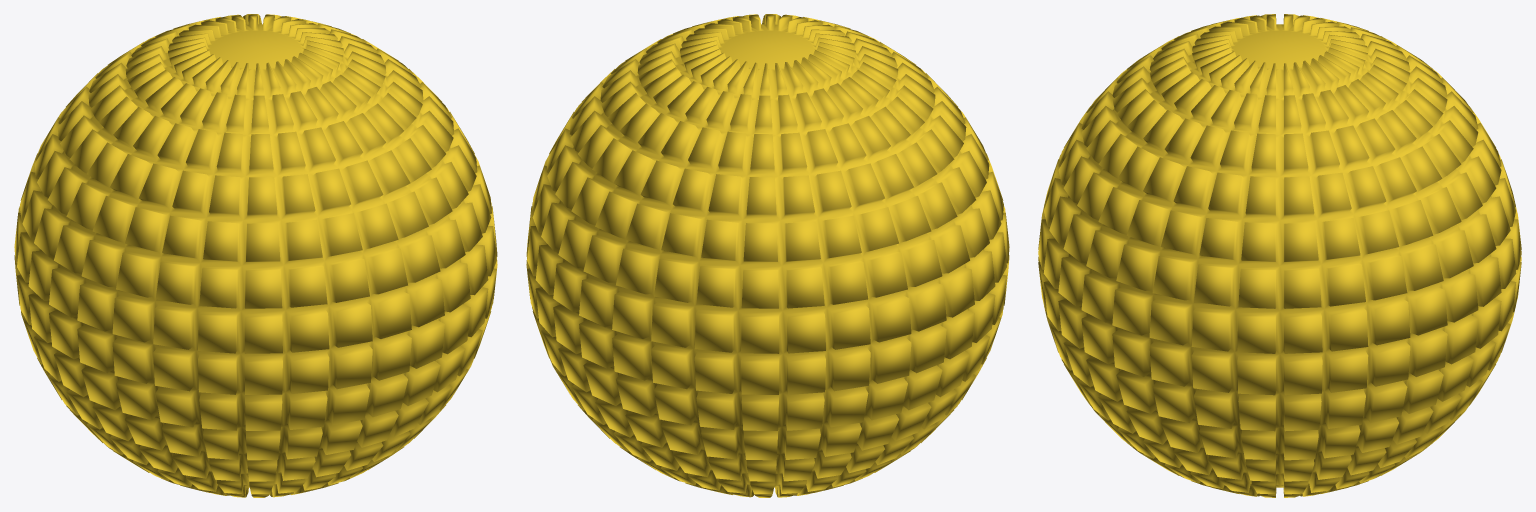
The model's file is squares_light_yellow.glb.
The picture shows the model from 3 angles, left to right: view 1: azimuth 30°, elevation 25°; view 2: azimuth 150°, elevation 25°; view 3: azimuth 270°, elevation 25°; orthographic projection.
Visible parts, largest first — view 1: Sphere.031; view 2: Sphere.031; view 3: Sphere.031.
Part boxes in pixels (box(x1,y1,x2,y2)): Sphere.031: box(14, 14, 497, 497); Sphere.031: box(526, 14, 1009, 497); Sphere.031: box(1038, 14, 1521, 497).
Bounding box in the file's own units: 2.08 × 2.04 × 2.08.
